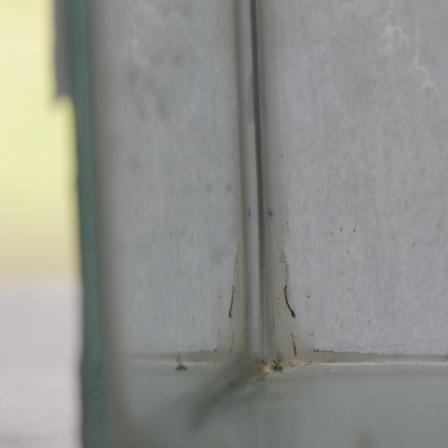Jentik-Nyamuk: (280, 281, 299, 323)
